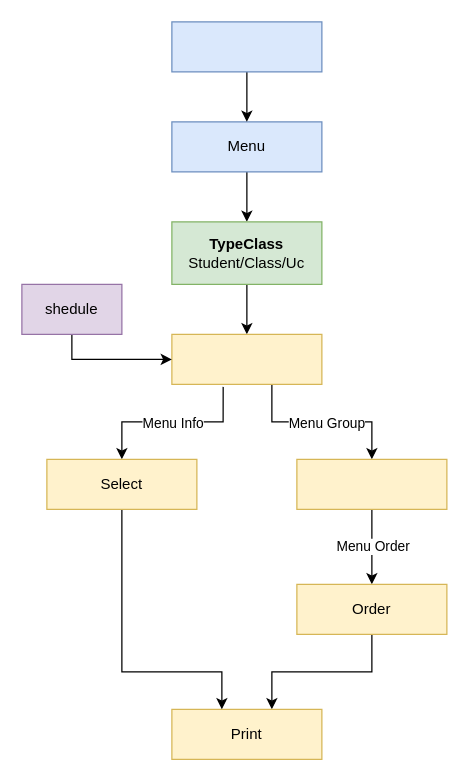
Image size: 469x781. Some labels were removed from this diagram. The shapes that lost their labels are listed below. From the top down, each one's centre as x and y in pixels, then its label:
At point (246, 46): "Main".
At point (246, 358): "Read".
At point (371, 483): "Filter".
